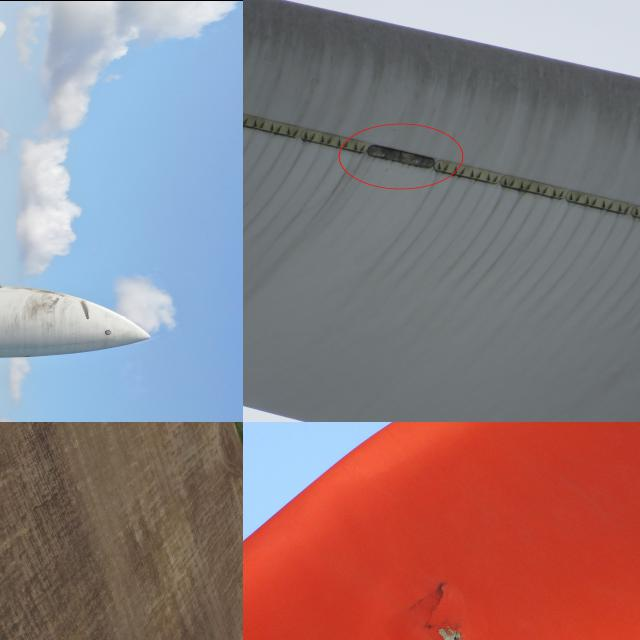damage: (394, 576, 493, 639), (356, 134, 441, 178), (76, 297, 92, 321)
